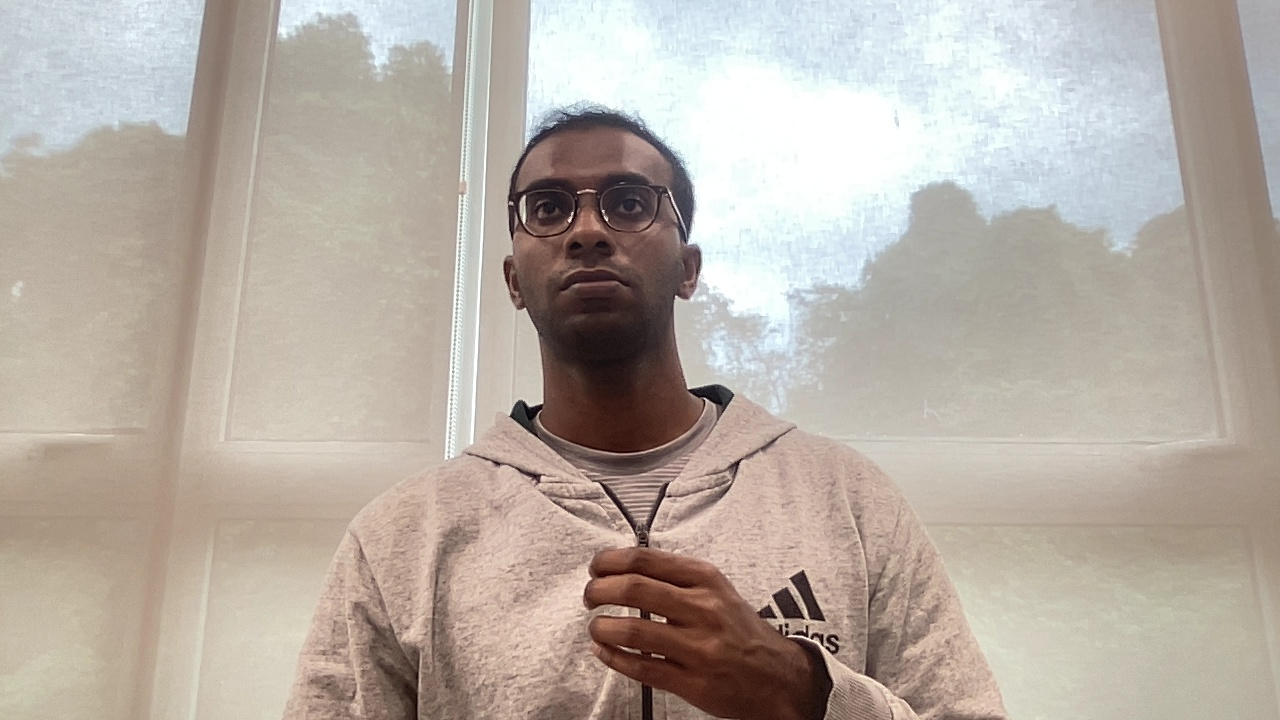drink: (579, 542, 778, 710)
